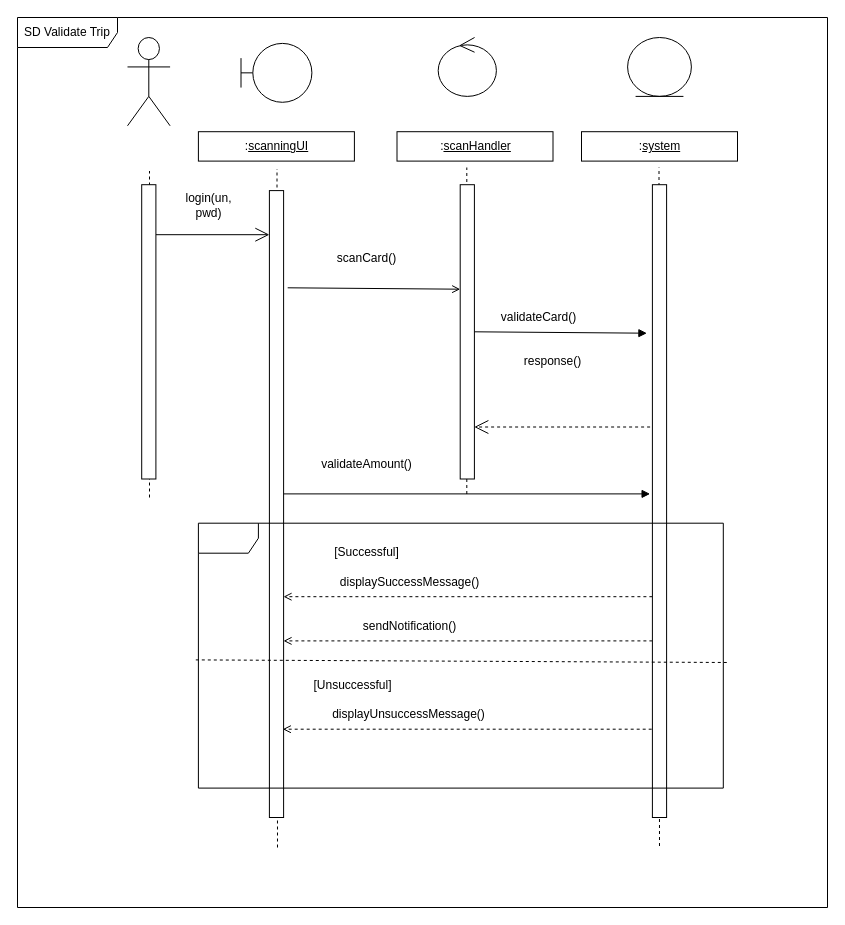
Image size: 845x925. Some labels were removed from this diagram. The centre of each missing label's shape, as x and y in pixels:
alt: point (460, 655)
Inspector: point (148, 81)
